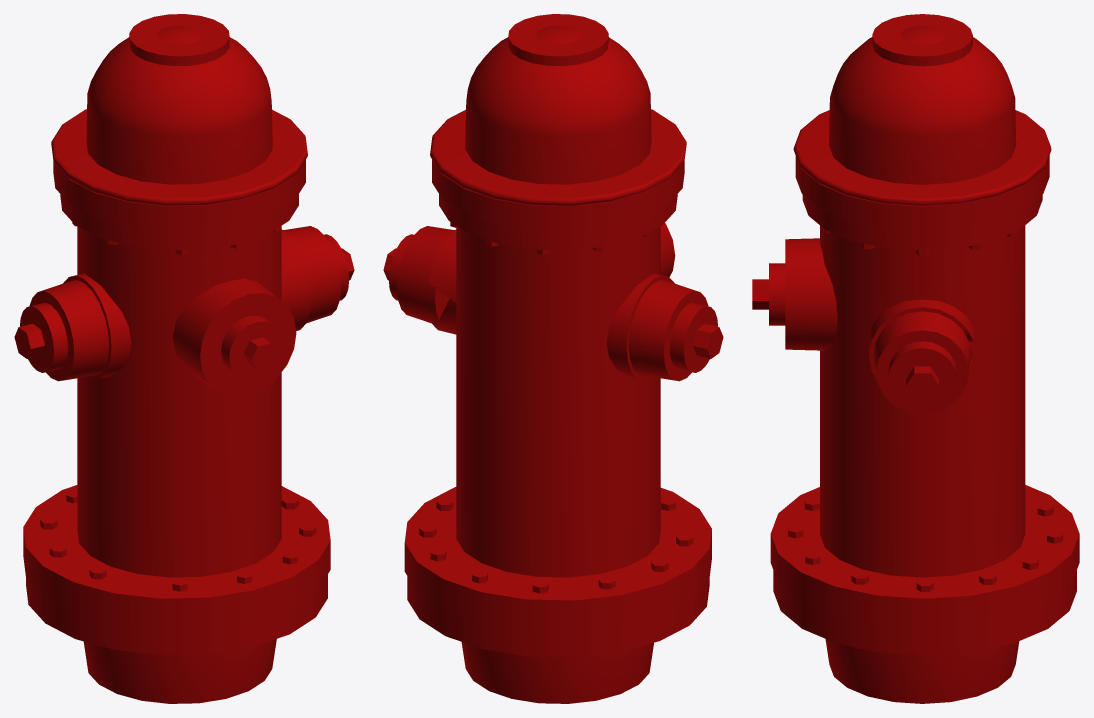
File: N_Firehydrant.fbx
3 views of the same model, side by side, from view 1: azimuth 30°, elevation 25°; view 2: azimuth 150°, elevation 25°; view 3: azimuth 270°, elevation 25° (orthographic).
Parts seen in each view (by area): view 1: N_Firehydrant; view 2: N_Firehydrant; view 3: N_Firehydrant.
Part boxes in pixels (box(x1,y1,x2,y2)): N_Firehydrant: box(14, 14, 354, 703); N_Firehydrant: box(383, 14, 723, 703); N_Firehydrant: box(752, 14, 1079, 703).
Bounding box in the file's own units: 58.32 × 109 × 51.09.
